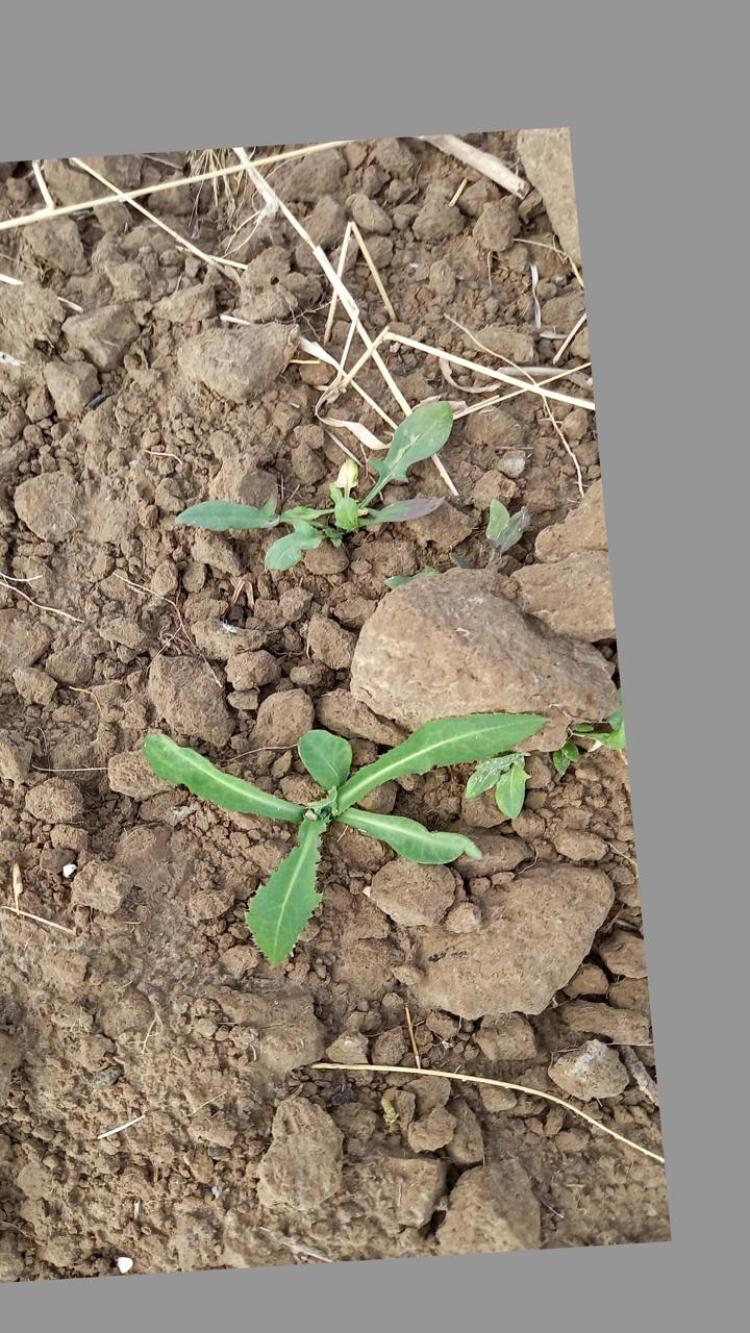osot: (117, 698, 558, 950)
